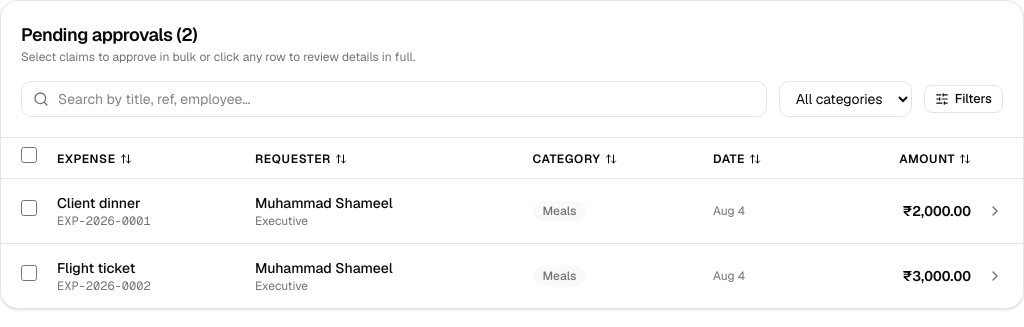
it: ApprovalsInboxTable › manages multi-selection and displays selected count and total amount
The image size is (1024, 327).
Click the checkbox named "Select claim EXP-2026-0001" at (29, 208), box [21,200,37,216]
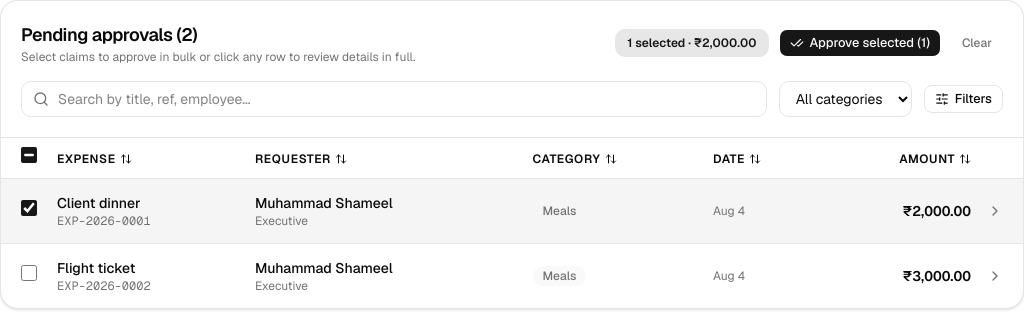
Expected: the text "1 selected · ₹2,000.00" is shown, [615,29,769,57]
Expected: the button "Approve selected (1)" is shown, [778,29,941,57]
Click the checkbox named "Select claim EXP-2026-0002" at (29, 273), box [21,265,37,281]
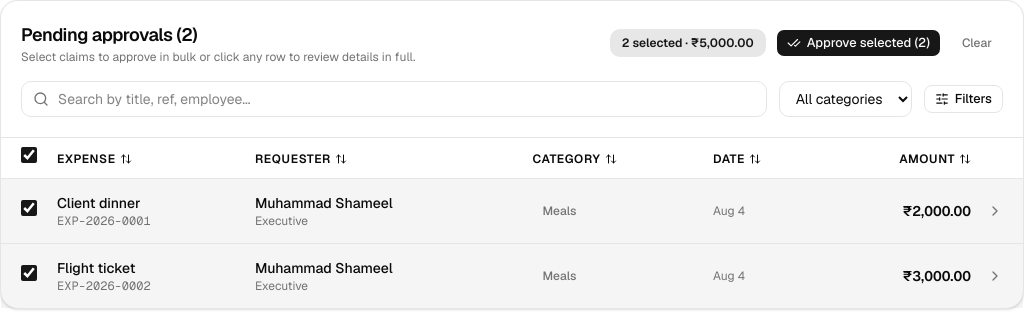
Expected: the text "2 selected · ₹5,000.00" is shown, [610,29,766,57]
Expected: the button "Approve selected (2)" is shown, [776,29,941,57]
Click the button "Clear" at (977, 43), box [951,29,1003,57]
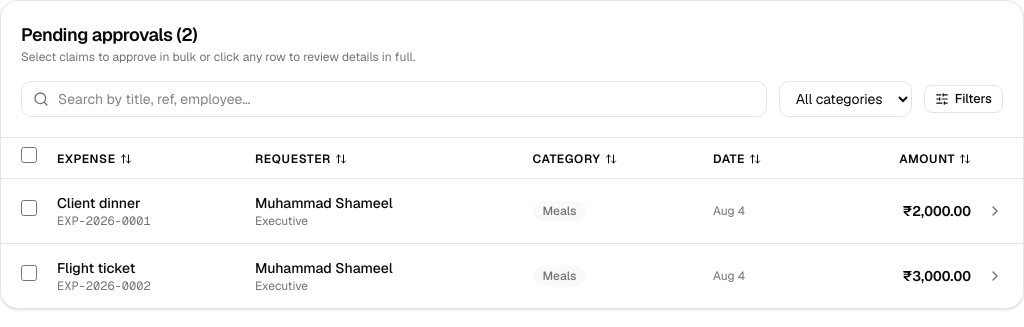
Expected: the text "selected ·" is gone
